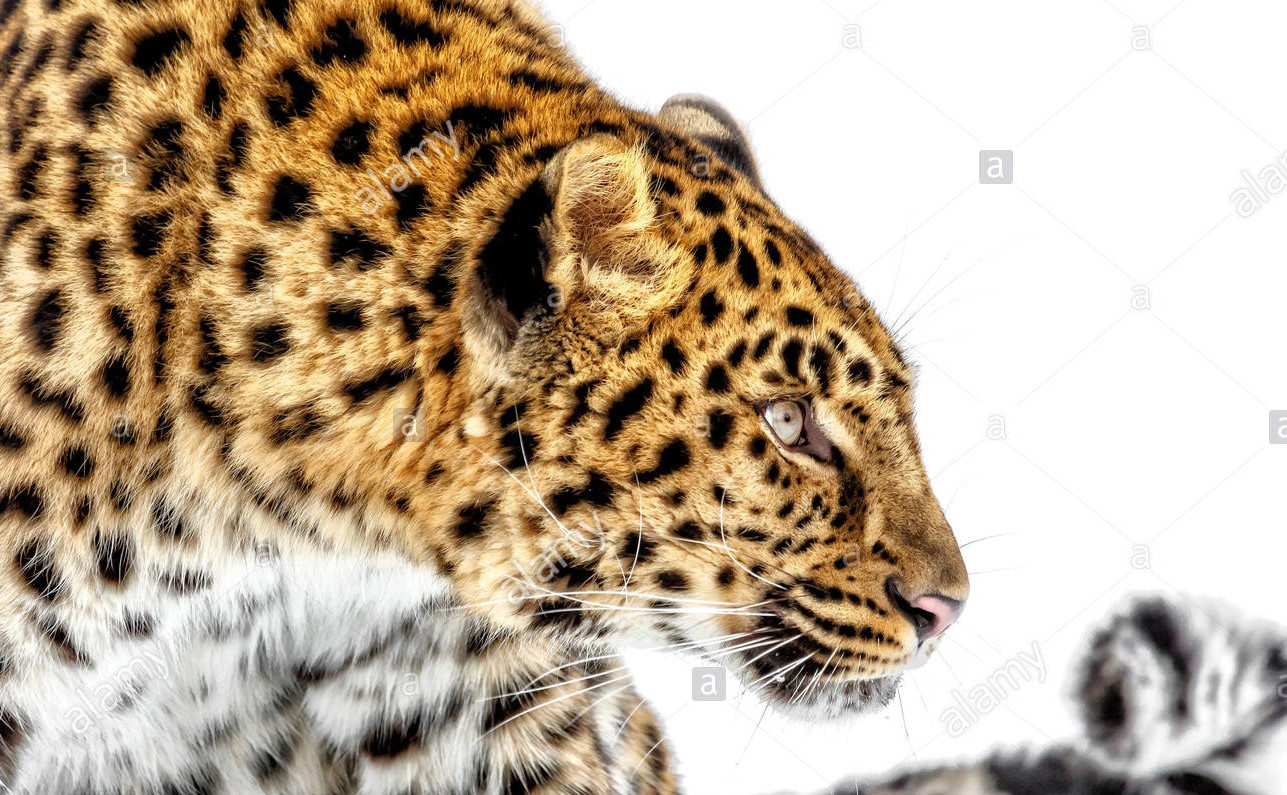amur_leopard: (377, 1, 973, 795)
